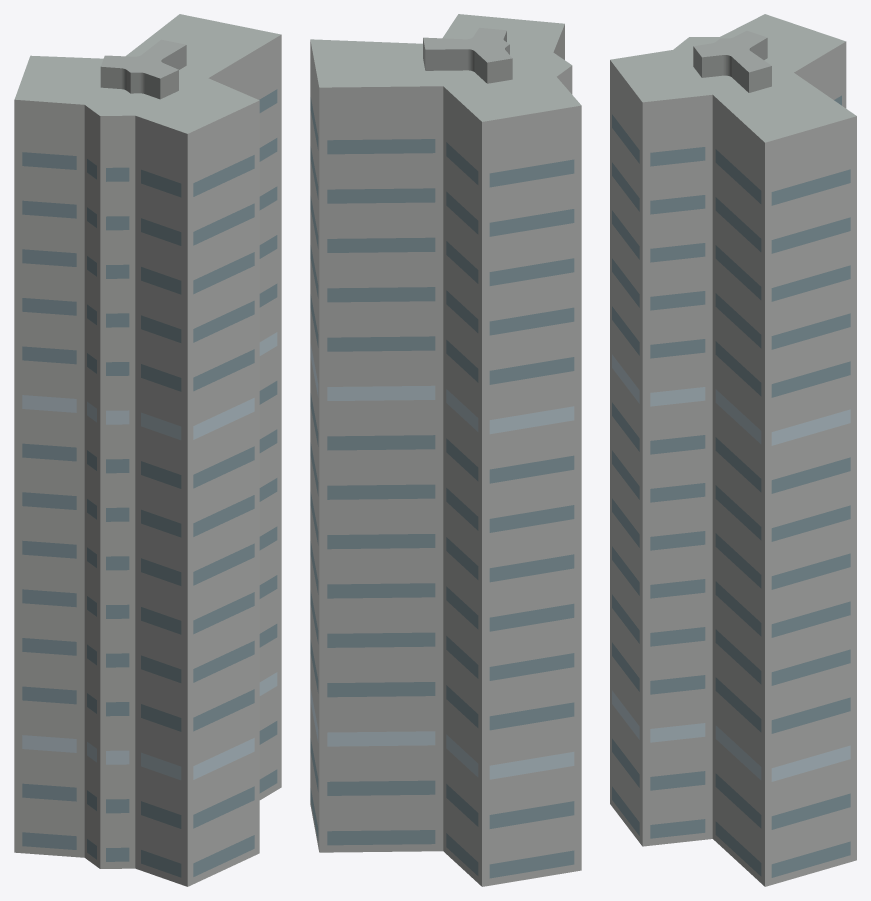
File: fallback-gangdong-lotte-castle-first-124.glb
The picture shows the model from 3 angles, left to right: view 1: azimuth 30°, elevation 25°; view 2: azimuth 150°, elevation 25°; view 3: azimuth 270°, elevation 25°; orthographic projection. The views are drawn at different scales.
Visible parts, largest first — view 1: fallback-gangdong-lotte-castle-first-124; view 2: fallback-gangdong-lotte-castle-first-124; view 3: fallback-gangdong-lotte-castle-first-124.
Boxes of the visible parts, x1,y1,x2,y2 form: fallback-gangdong-lotte-castle-first-124: (14,14,281,886); fallback-gangdong-lotte-castle-first-124: (310,14,581,886); fallback-gangdong-lotte-castle-first-124: (610,14,856,886).
Bounding box in the file's own units: 32.14 × 89 × 26.05.
